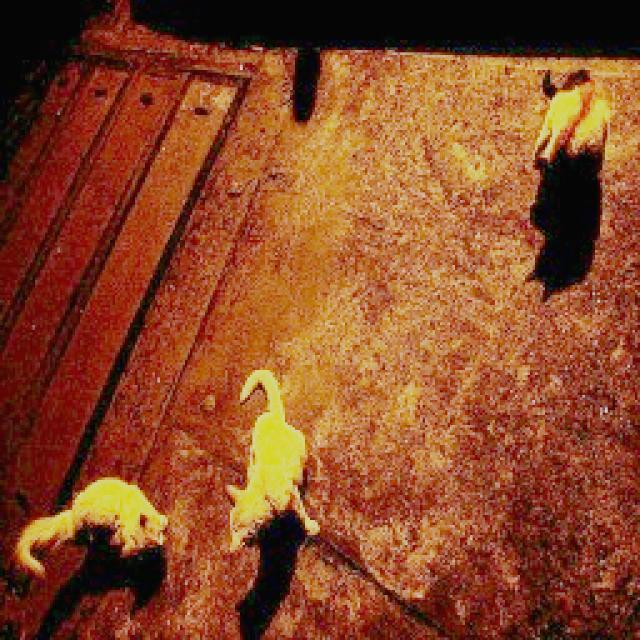cat: (209, 361, 341, 560), (6, 475, 172, 594), (519, 58, 622, 185)
